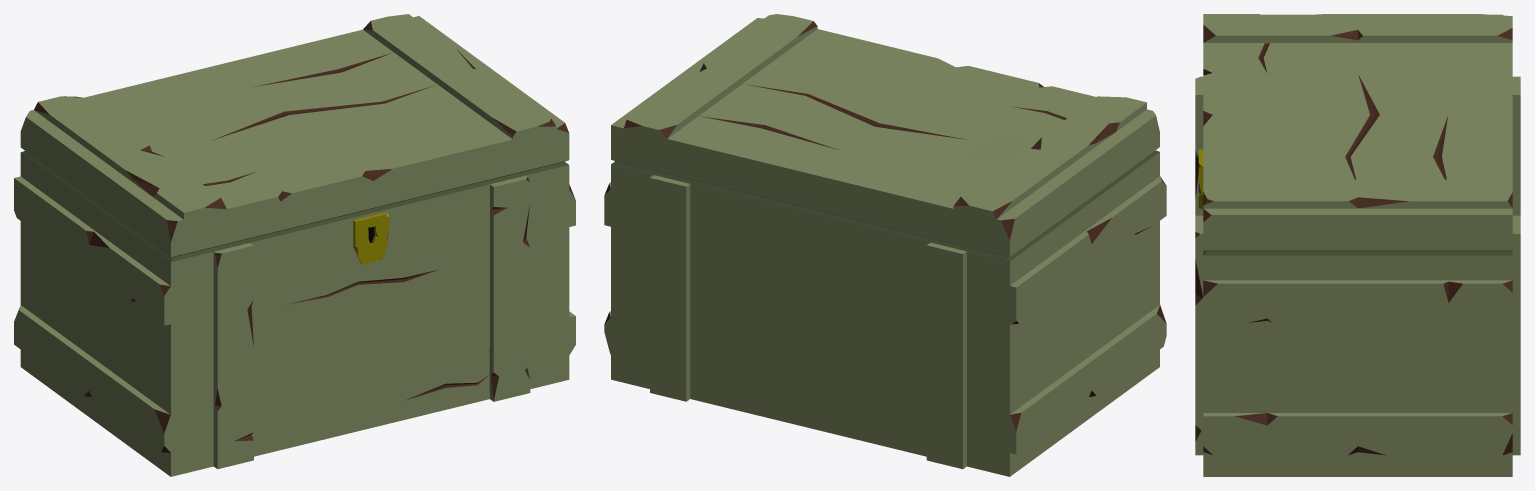
Rendered from Caisse_Armee_A.FBX.
3 views of the same model, side by side, from view 1: azimuth 30°, elevation 25°; view 2: azimuth 150°, elevation 25°; view 3: azimuth 270°, elevation 25° (orthographic). The views are drawn at different scales.
Parts seen in each view (by area): view 1: Caisse_Armee_A; view 2: Caisse_Armee_A; view 3: Caisse_Armee_A.
Part boxes in pixels (x1=…): Caisse_Armee_A: x1=14, y1=14, x2=575, y2=476; Caisse_Armee_A: x1=604, y1=14, x2=1166, y2=476; Caisse_Armee_A: x1=1195, y1=14, x2=1520, y2=476.
Bounding box in the file's own units: 88.33 × 53.51 × 58.62.
1 material, 1 textured.
